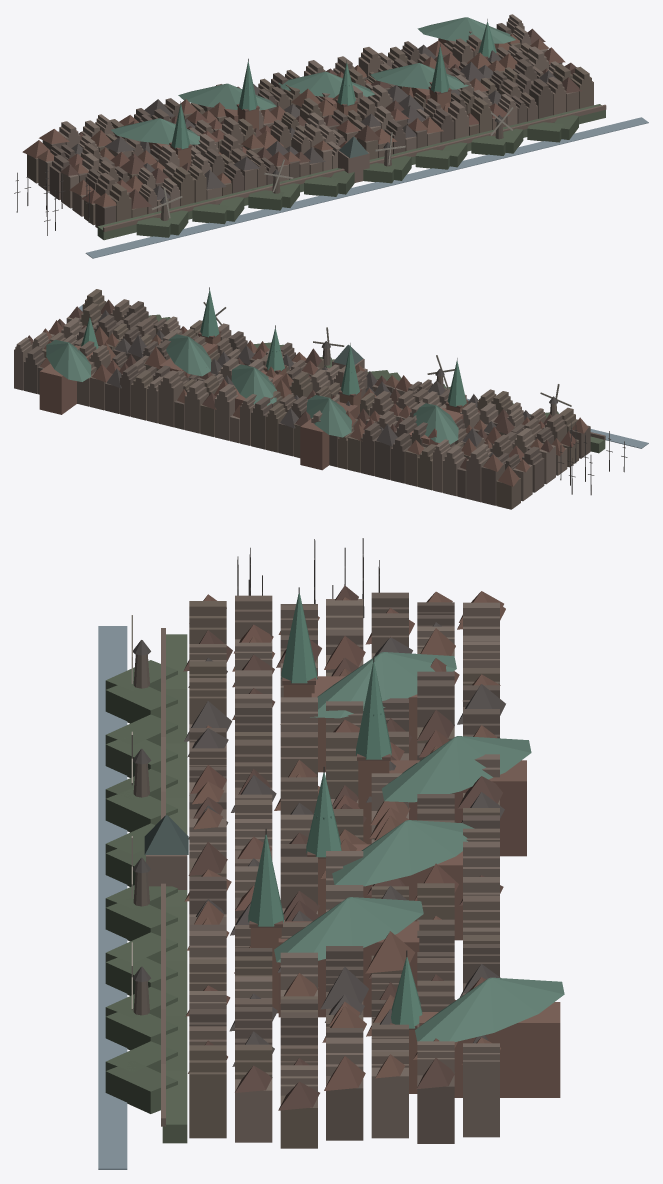
File: hamburg_skyline.glb
3 renders of one model, top to bottom at view 1: azimuth 30°, elevation 25°; view 2: azimuth 150°, elevation 25°; view 3: azimuth 270°, elevation 25°, orthographic. The views are drawn at different scales.
Parts seen in each view (by area): view 1: hamburg_skyline_house, hamburg_skyline_roof, hamburg_skyline_earth, hamburg_skyline_copper, hamburg_skyline_brick, hamburg_skyline_water, hamburg_skyline_wood, hamburg_skyline_sail; view 2: hamburg_skyline_house, hamburg_skyline_roof, hamburg_skyline_copper, hamburg_skyline_brick, hamburg_skyline_wood, hamburg_skyline_earth, hamburg_skyline_water, hamburg_skyline_sail; view 3: hamburg_skyline_house, hamburg_skyline_copper, hamburg_skyline_roof, hamburg_skyline_earth, hamburg_skyline_brick, hamburg_skyline_water, hamburg_skyline_wood.
Part boxes in pixels (<box>): hamburg_skyline_house: <box>27,14,593,227</box>; hamburg_skyline_roof: <box>22,28,581,208</box>; hamburg_skyline_earth: <box>97,104,605,240</box>; hamburg_skyline_copper: <box>111,17,515,149</box>; hamburg_skyline_brick: <box>103,38,606,231</box>; hamburg_skyline_water: <box>85,117,648,258</box>; hamburg_skyline_wood: <box>14,19,503,235</box>; hamburg_skyline_sail: <box>152,107,513,218</box>; hamburg_skyline_house: <box>14,289,590,509</box>; hamburg_skyline_roof: <box>27,299,588,486</box>; hamburg_skyline_copper: <box>46,290,466,444</box>; hamburg_skyline_brick: <box>39,330,605,470</box>; hamburg_skyline_wood: <box>89,287,627,495</box>; hamburg_skyline_earth: <box>148,314,605,453</box>; hamburg_skyline_water: <box>79,305,648,448</box>; hamburg_skyline_sail: <box>203,302,571,406</box>; hamburg_skyline_house: <box>189,592,499,1148</box>; hamburg_skyline_copper: <box>248,593,564,1041</box>; hamburg_skyline_roof: <box>133,585,505,1110</box>; hamburg_skyline_earth: <box>105,634,187,1143</box>; hamburg_skyline_brick: <box>146,628,560,1126</box>; hamburg_skyline_water: <box>98,626,127,1169</box>; hamburg_skyline_wood: <box>133,538,407,1015</box>.
Size of the model in its own units: 318 by 50.5 by 113.
